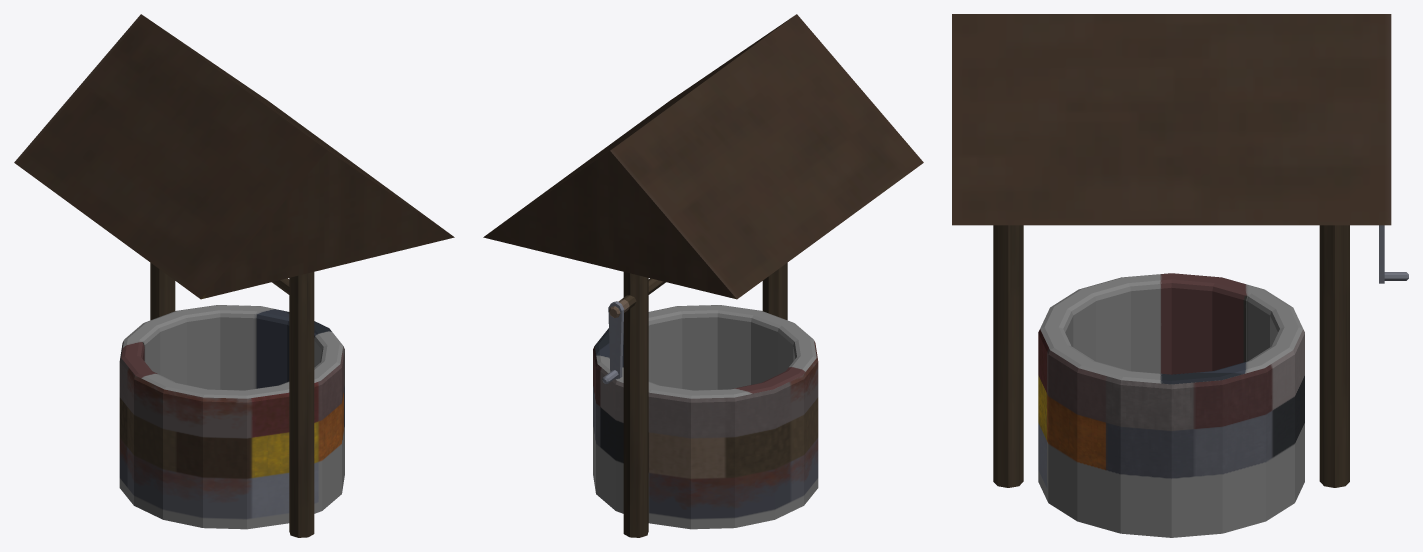
Rendered from Well.fbx.
3 views of the same model, side by side, from view 1: azimuth 30°, elevation 25°; view 2: azimuth 150°, elevation 25°; view 3: azimuth 270°, elevation 25° (orthographic). The views are drawn at different scales.
Visible parts, largest first — view 1: well; view 2: well; view 3: well.
Boxes of the visible parts, x1,y1,x2,y2 form: well: (14, 14, 454, 537); well: (483, 14, 923, 537); well: (952, 14, 1408, 537).
Size of the model in its own units: 236 by 353 by 312.
